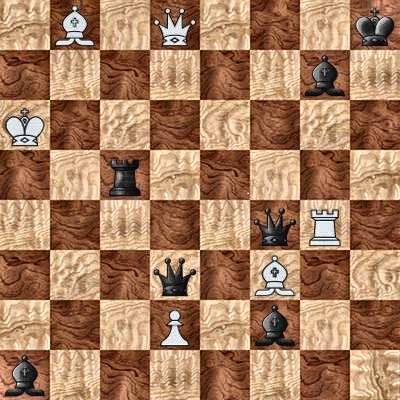black-bishop: (300, 50, 350, 100), (250, 300, 300, 350), (0, 350, 50, 400)
black-king: (350, 0, 400, 50)
black-queen: (250, 200, 300, 250), (150, 250, 200, 300)
black-rook: (100, 150, 150, 200)
white-bishop: (50, 0, 100, 50), (250, 250, 300, 300)
white-king: (0, 100, 50, 150)
white-pawn: (150, 300, 200, 350)
white-queen: (150, 0, 200, 50)
white-rook: (300, 200, 350, 250)
